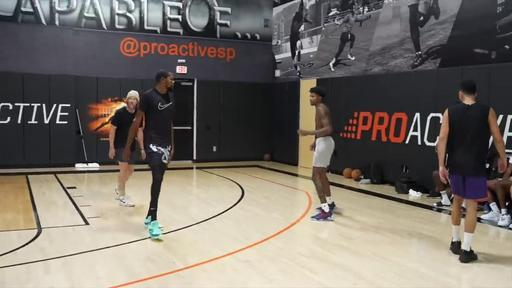ball: (343, 168, 353, 178), (352, 169, 360, 180), (263, 152, 271, 162)
human: (438, 80, 506, 262), (123, 70, 175, 240), (298, 87, 338, 220), (108, 89, 144, 206)
